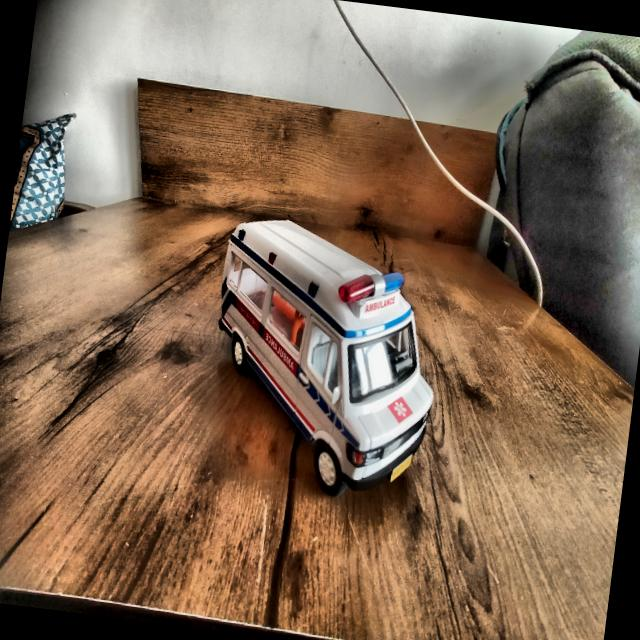Ambulance: (198, 213, 452, 501)
